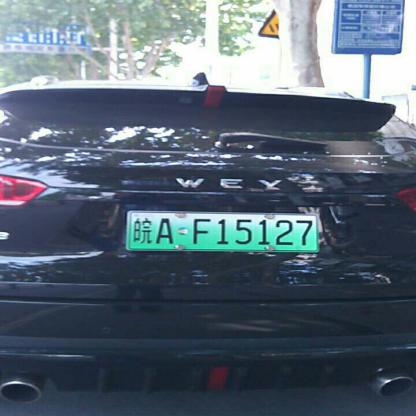lp: (127, 210, 318, 250)
